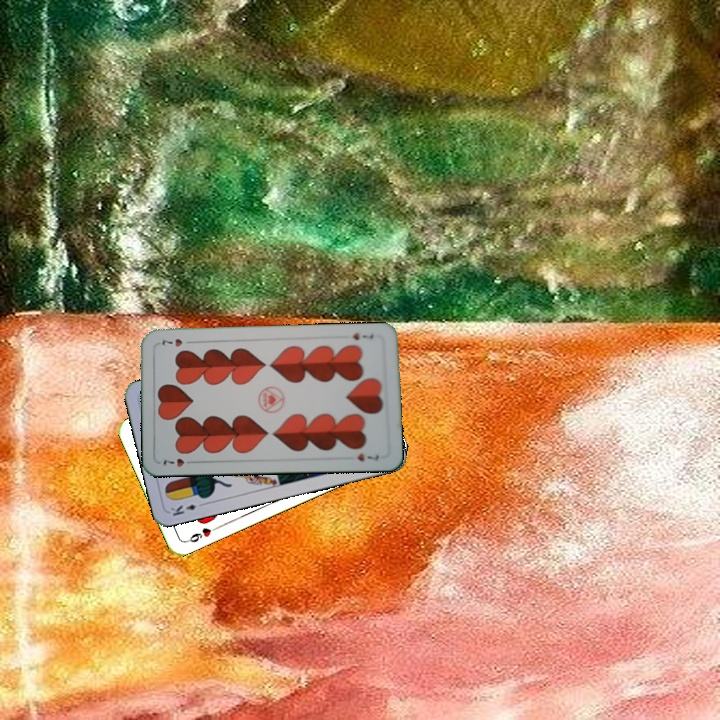EK: (166, 499, 207, 519)
H7: (159, 455, 198, 470), (349, 329, 376, 342)
H9: (182, 523, 220, 545)
